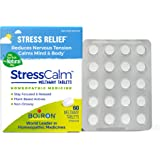Medicine: (0, 26, 84, 137)
